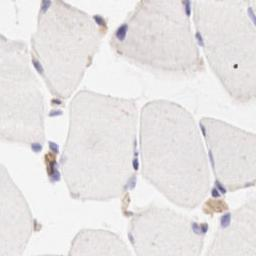nucleus: (114, 23, 128, 41), (191, 222, 210, 235), (132, 140, 139, 174), (31, 58, 44, 75), (123, 176, 138, 190), (219, 213, 232, 228), (48, 139, 61, 153), (194, 31, 204, 48), (198, 121, 207, 139), (207, 149, 215, 169), (182, 1, 192, 16), (31, 143, 43, 155), (248, 7, 256, 25), (217, 179, 227, 193), (40, 1, 51, 13), (53, 164, 60, 182), (48, 109, 63, 117), (211, 188, 221, 198), (94, 16, 102, 25), (128, 232, 134, 243), (54, 100, 58, 103)
positive_cell: (203, 188, 228, 214), (44, 151, 61, 186), (90, 14, 110, 38), (52, 99, 61, 104)
